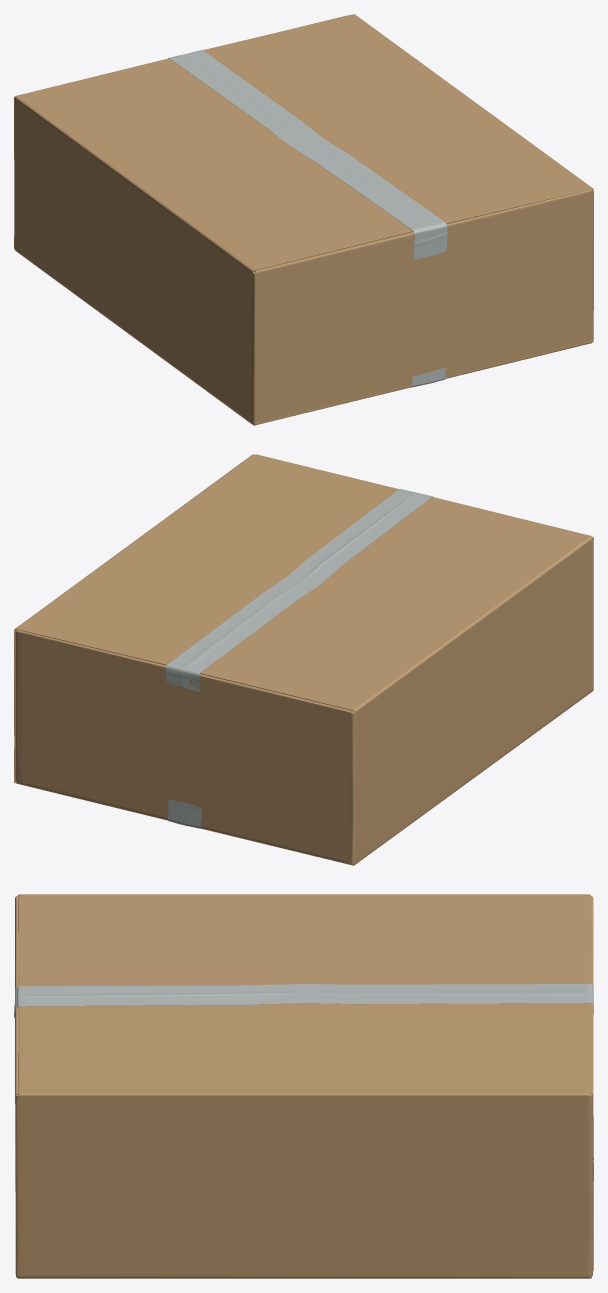
The model's file is box_flat_a15.glb.
The picture shows the model from 3 angles, top to bottom: view 1: azimuth 30°, elevation 25°; view 2: azimuth 150°, elevation 25°; view 3: azimuth 270°, elevation 25°; orthographic projection. The views are drawn at different scales.
Bounding box in the file's own units: 0.512 × 0.2276 × 0.6277.
